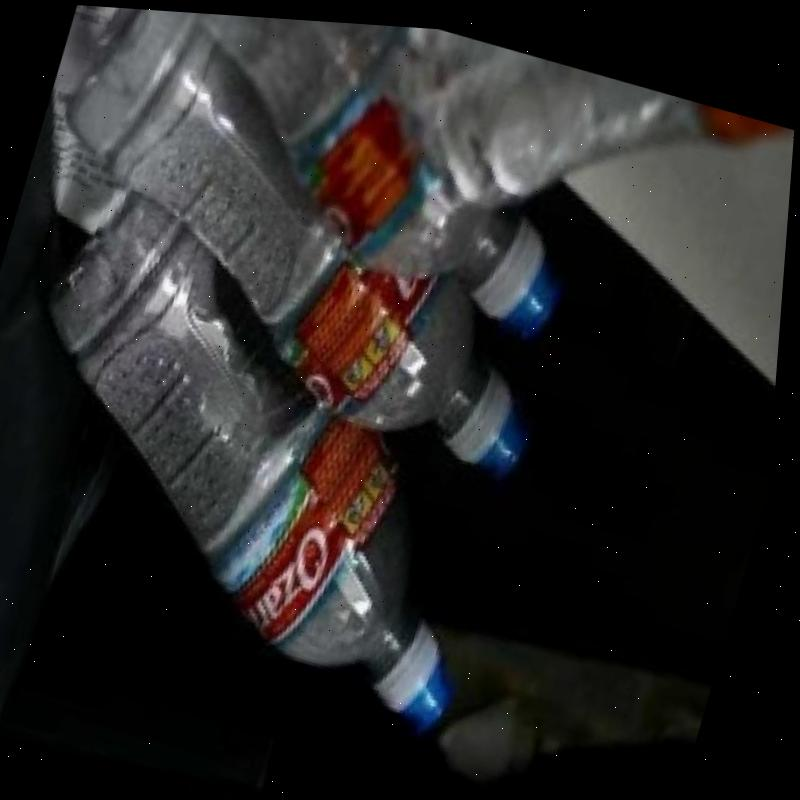botella: (0, 161, 579, 729), (0, 1, 620, 470), (98, 6, 622, 326), (377, 20, 800, 285)
